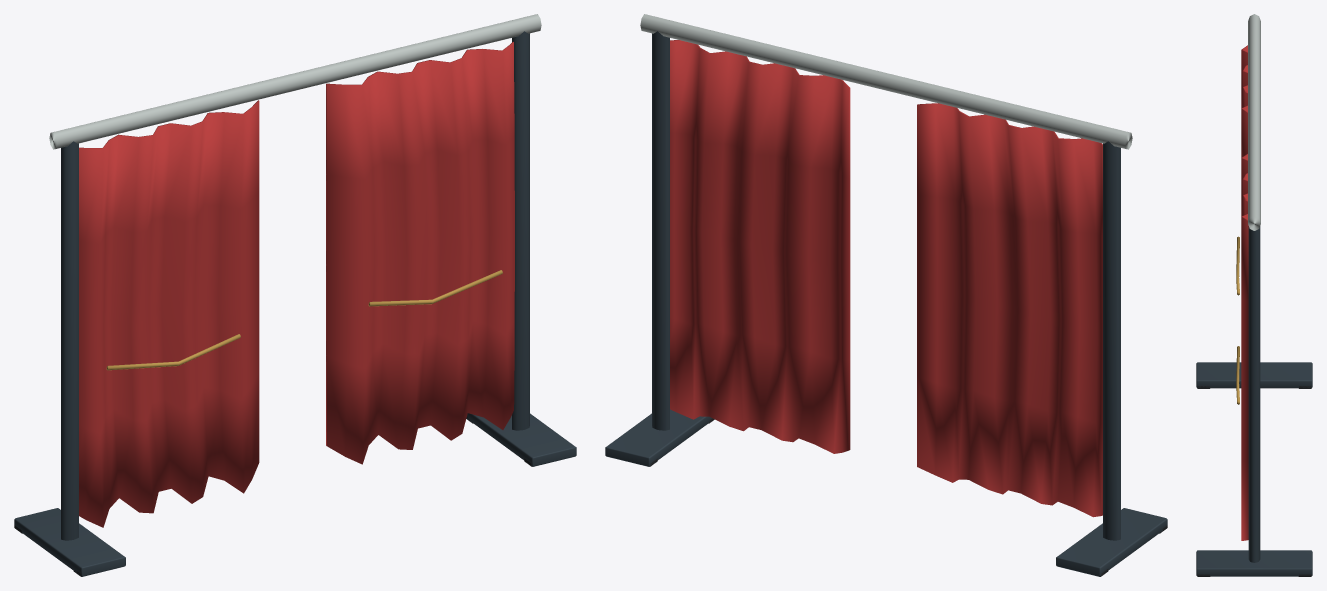
File: S076_theater_curtain_rebuilt.glb
3 renders of one model, left to right at view 1: azimuth 30°, elevation 25°; view 2: azimuth 150°, elevation 25°; view 3: azimuth 270°, elevation 25°, orthographic. The views are drawn at different scales.
Visible parts, largest first — view 1: red, shell, silver, gold; view 2: red, shell, silver; view 3: shell, red, silver, gold.
Part boxes in pixels (left/top/right/bottom): red: left=79, top=42, right=514, bottom=527; shell: left=14, top=31, right=576, bottom=576; silver: left=49, top=14, right=541, bottom=149; gold: left=106, top=270, right=502, bottom=370; red: left=670, top=40, right=1102, bottom=517; shell: left=605, top=31, right=1167, bottom=576; silver: left=640, top=14, right=1132, bottom=149; shell: left=1196, top=226, right=1312, bottom=576; red: left=1241, top=45, right=1248, bottom=540; silver: left=1248, top=14, right=1260, bottom=230; gold: left=1236, top=236, right=1239, bottom=404.
Size of the model in its own units: 4.01 by 3.24 by 0.95.
